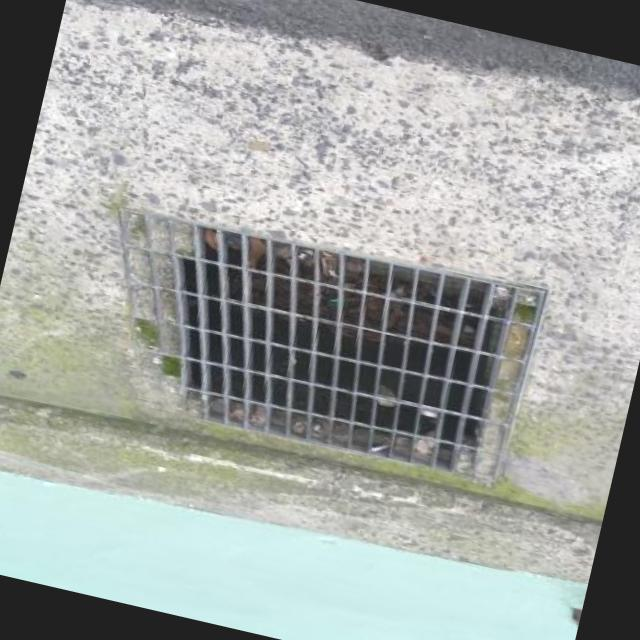drain-clean-: (48, 186, 545, 489)
